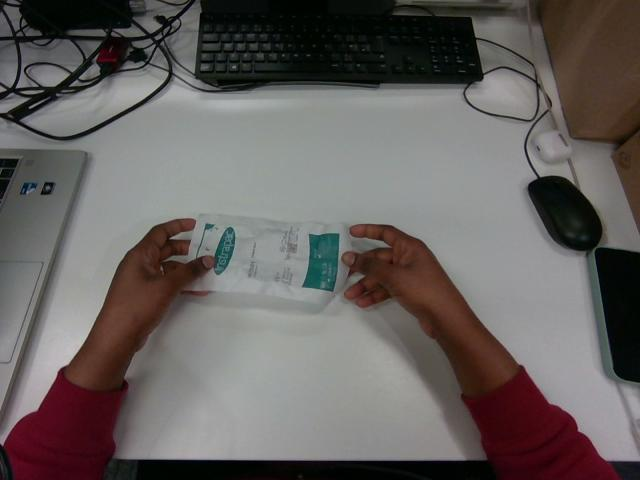gallipot: (188, 214, 350, 303)
